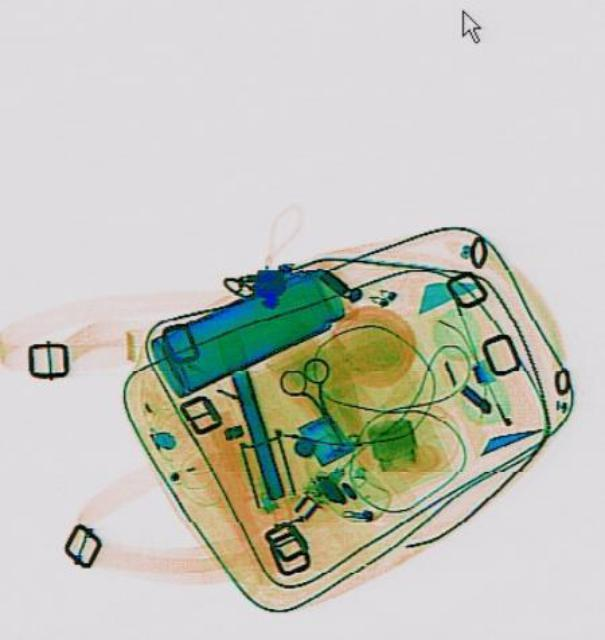Scissors: (271, 349, 362, 455)
